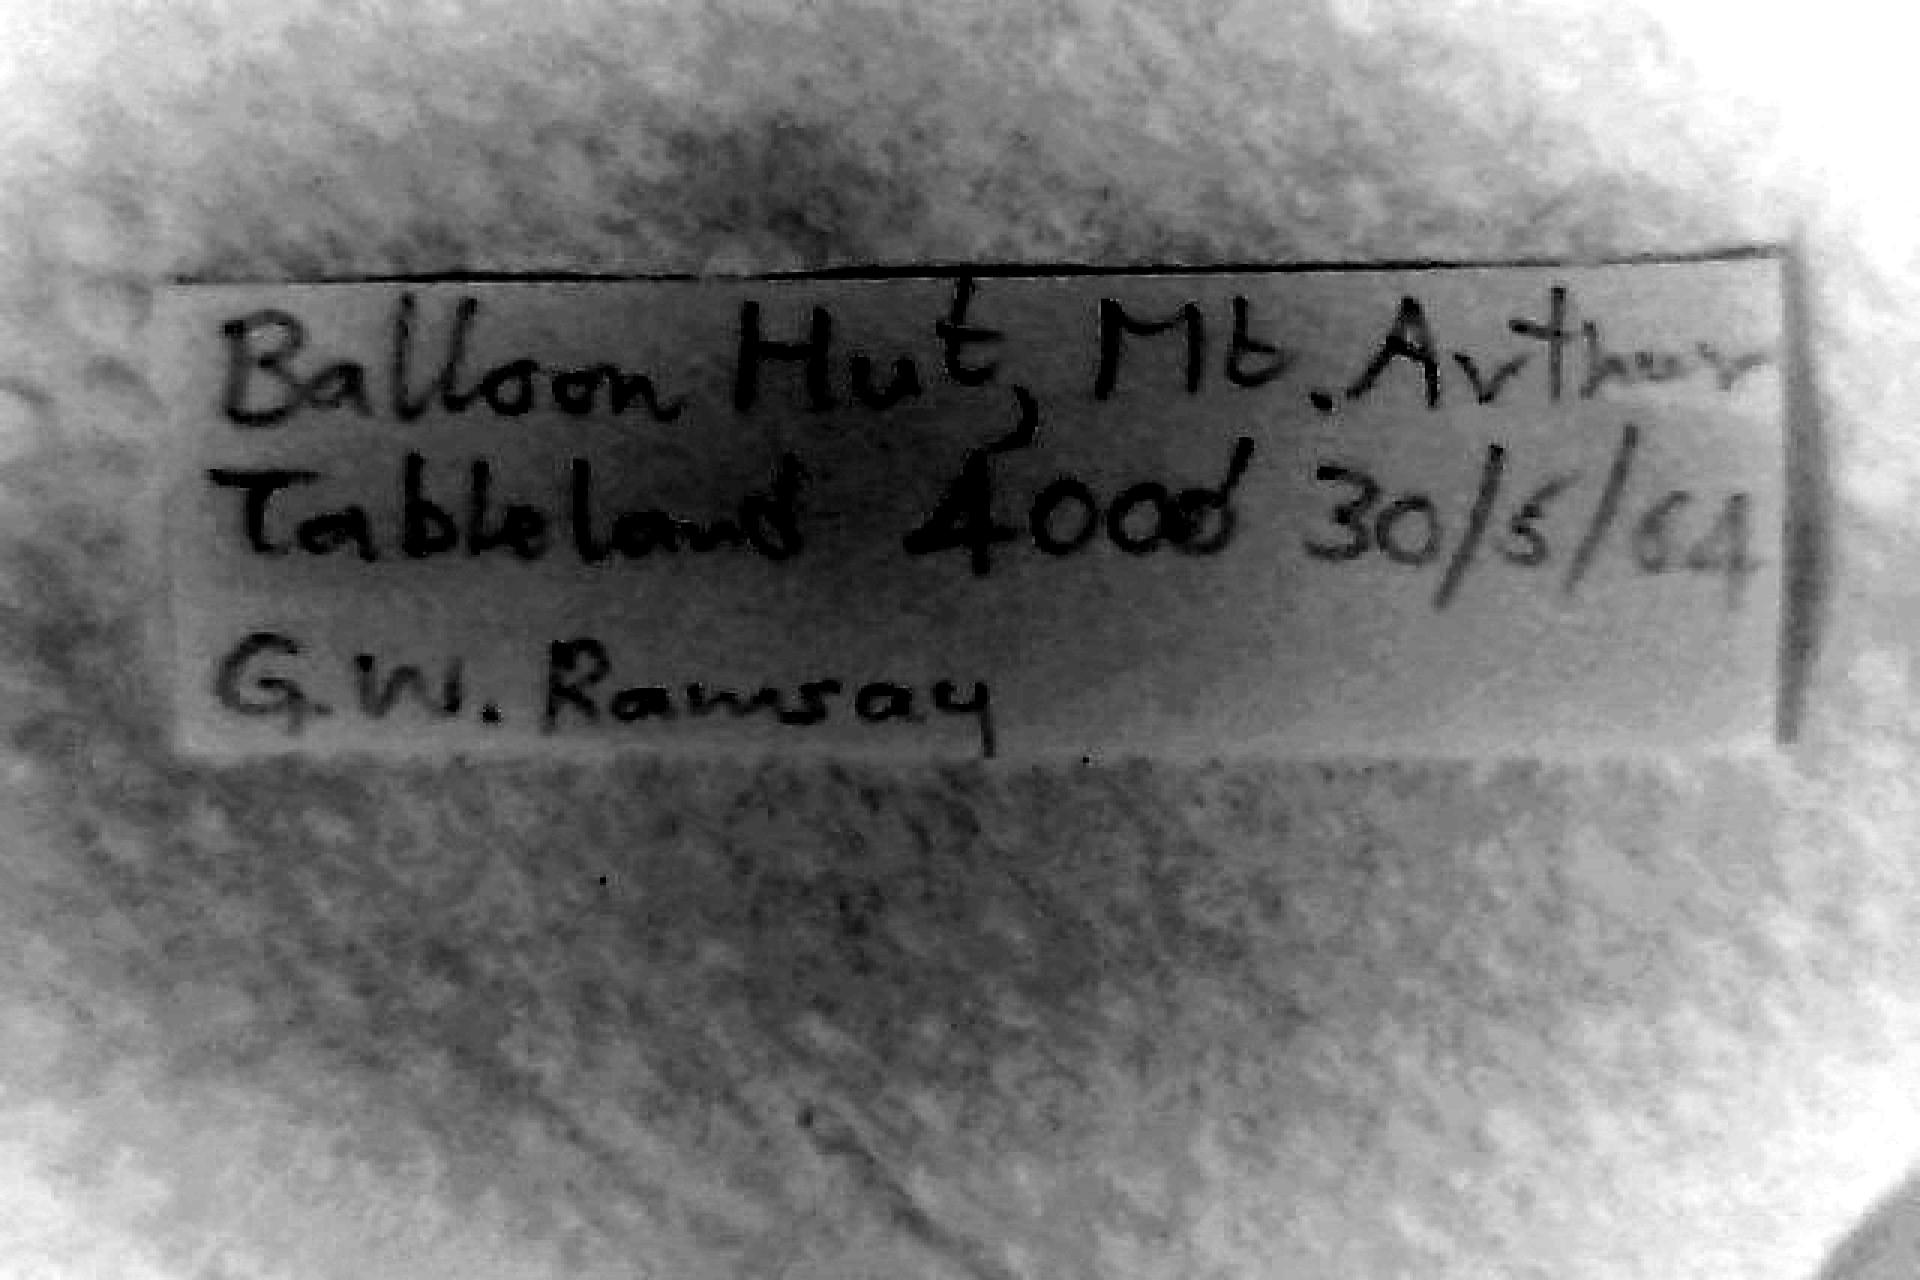hand_label: (161, 250, 1789, 759)
